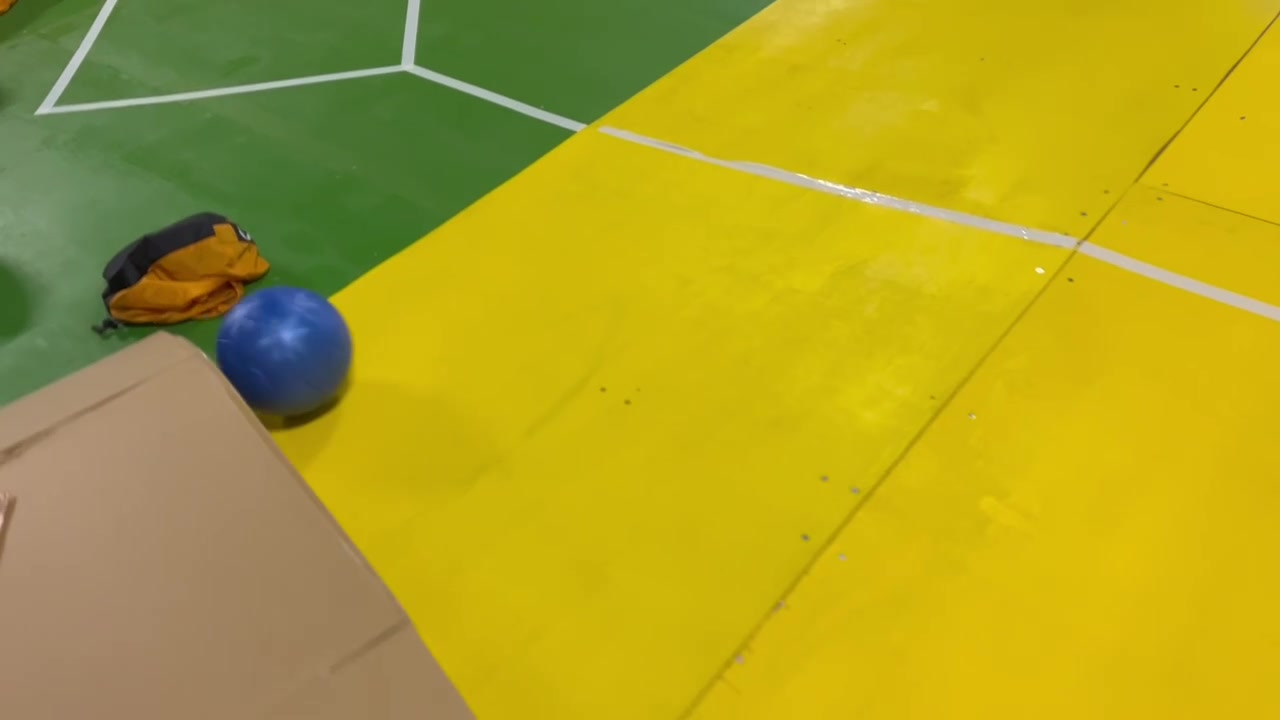blue: (209, 284, 359, 431)
